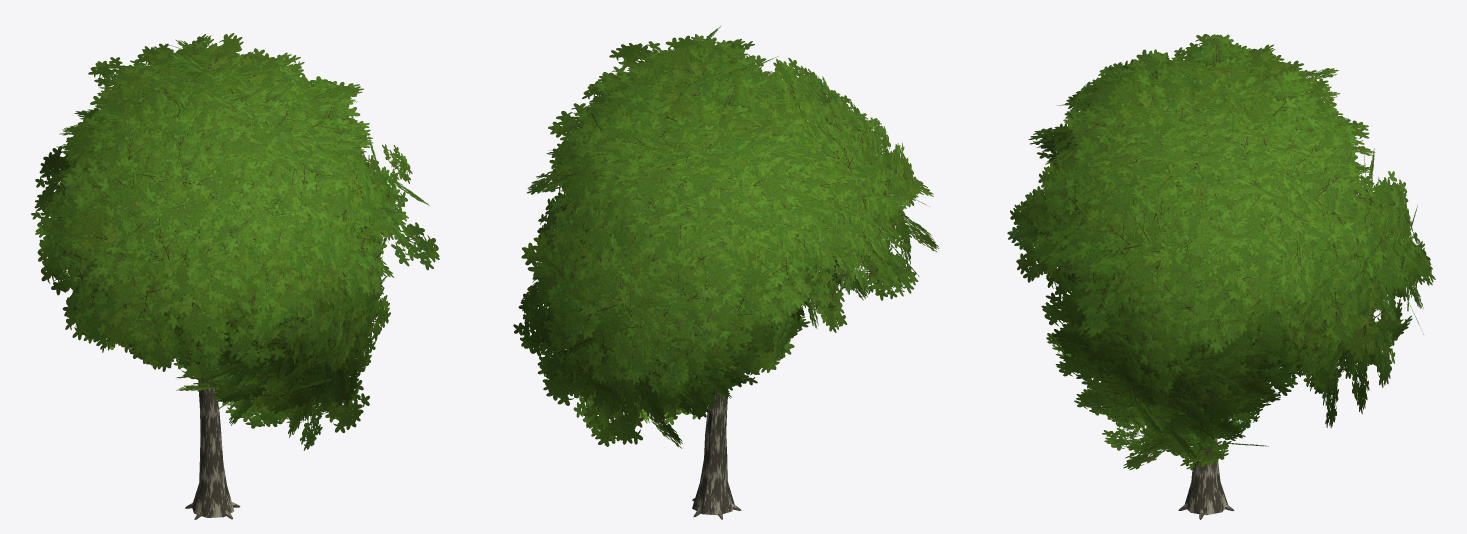
File: tree_plane_b.glb
3 views of the same model, side by side, from view 1: azimuth 30°, elevation 25°; view 2: azimuth 150°, elevation 25°; view 3: azimuth 270°, elevation 25° (orthographic).
Parts seen in each view (by area): view 1: tree_plane_b; view 2: tree_plane_b; view 3: tree_plane_b.
Boxes of the visible parts, <box> form: tree_plane_b: <box>31,33,439,519</box>; tree_plane_b: <box>513,26,938,519</box>; tree_plane_b: <box>1007,34,1435,519</box>.
Bounding box in the file's own units: 15.73 × 18.43 × 16.45.
Materials: 2 (2 with a texture image).
